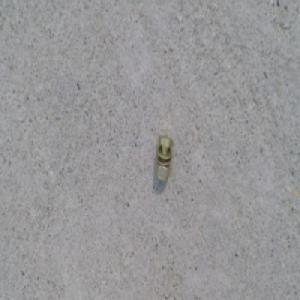BoltNutSet: (154, 134, 173, 181)
